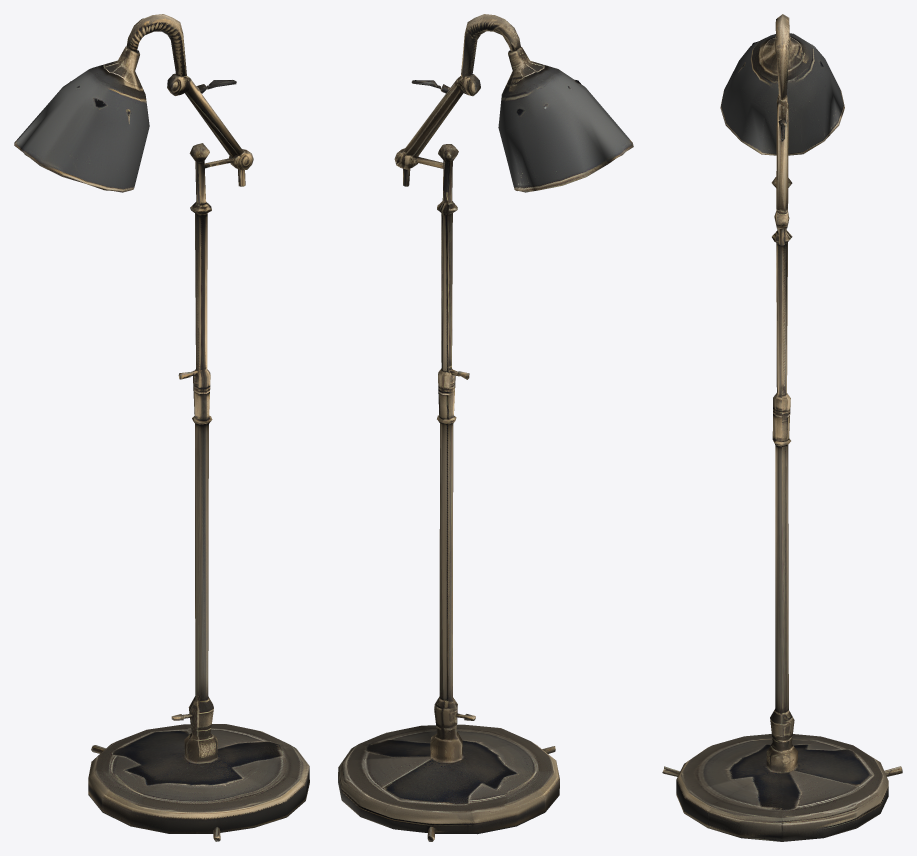
The model's file is FloorLamp.fbx.
3 renders of one model, left to right at view 1: azimuth 30°, elevation 25°; view 2: azimuth 150°, elevation 25°; view 3: azimuth 270°, elevation 25°, orthographic. The views are drawn at different scales.
Visible parts, largest first — view 1: mesh_node; view 2: mesh_node; view 3: mesh_node.
Part boxes in pixels (box(x1,y1,x2,y2)): mesh_node: box(14, 14, 309, 841); mesh_node: box(338, 14, 633, 841); mesh_node: box(662, 14, 902, 841).
Size of the model in its own units: 36.33 by 99.8 by 28.71.
1 material, 1 textured.
